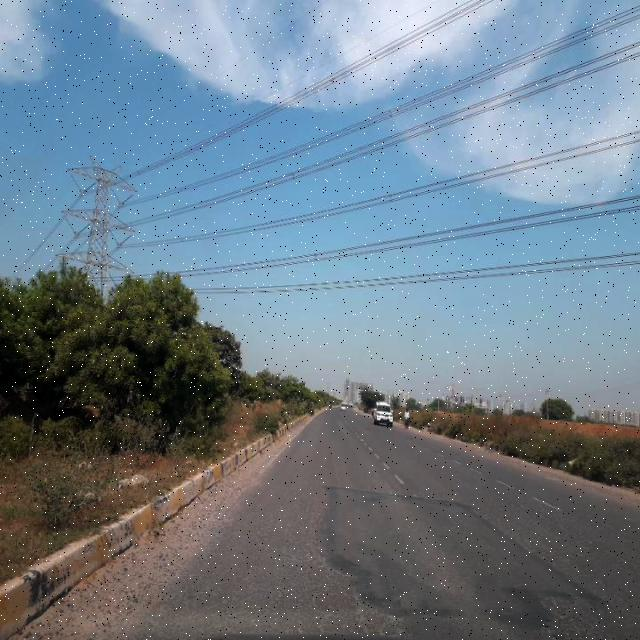D20: (258, 532, 396, 638)
